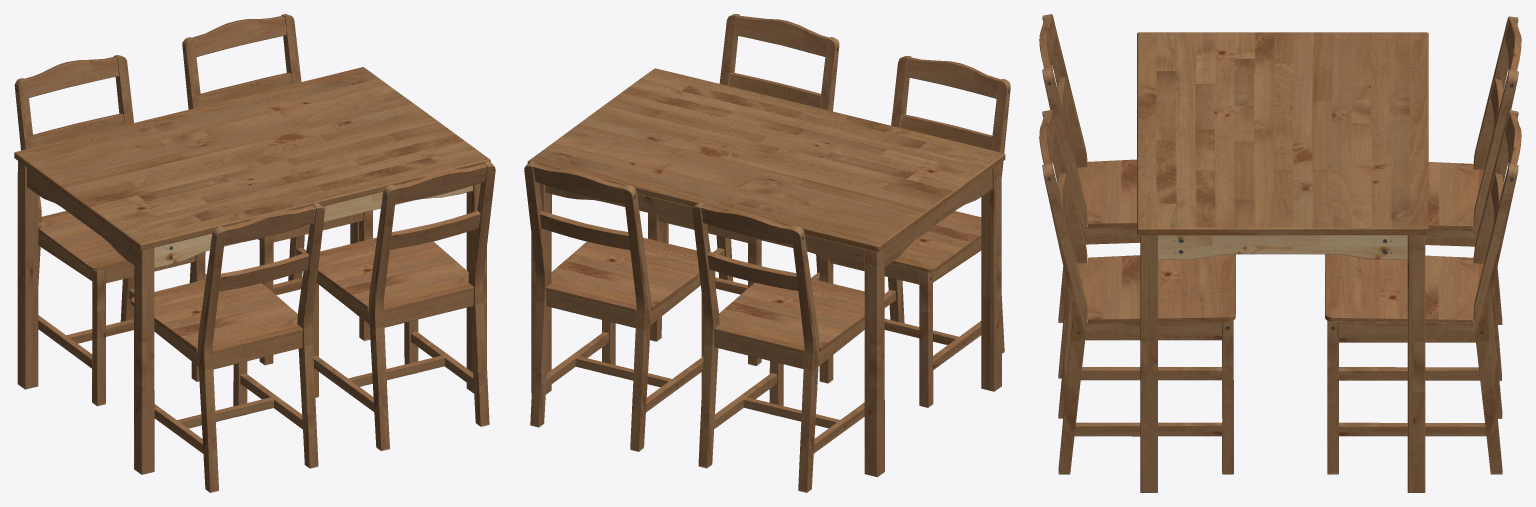
The model's file is table-13.glb.
3 views of the same model, side by side, from view 1: azimuth 30°, elevation 25°; view 2: azimuth 150°, elevation 25°; view 3: azimuth 270°, elevation 25° (orthographic). The views are drawn at different scales.
Visible parts, largest first — view 1: ASY_ART_70575947_S01_NV01; view 2: ASY_ART_70575947_S01_NV01; view 3: ASY_ART_70575947_S01_NV01.
Boxes of the visible parts, x1,y1,x2,y2 form: ASY_ART_70575947_S01_NV01: (14,14,495,492); ASY_ART_70575947_S01_NV01: (524,14,1010,492); ASY_ART_70575947_S01_NV01: (1039,14,1521,492).
Size of the model in its own units: 1.18 by 0.8736 by 1.22.
Materials: 1 (1 with a texture image).
